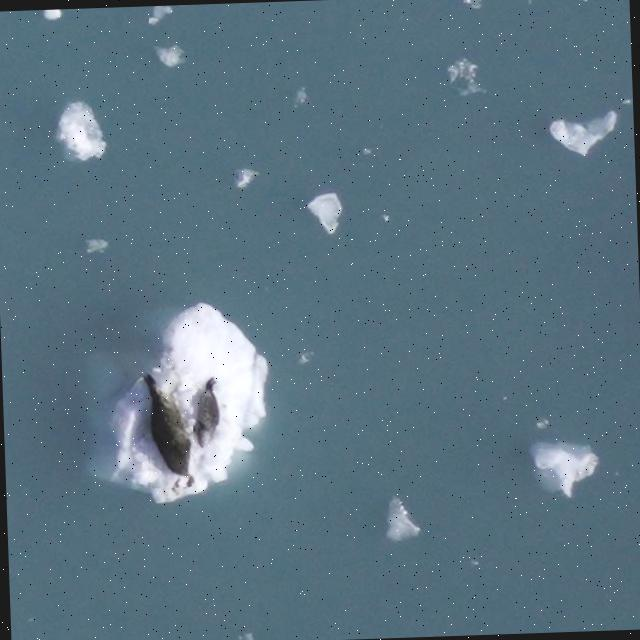seal: (145, 373, 195, 487), (193, 374, 218, 445)
